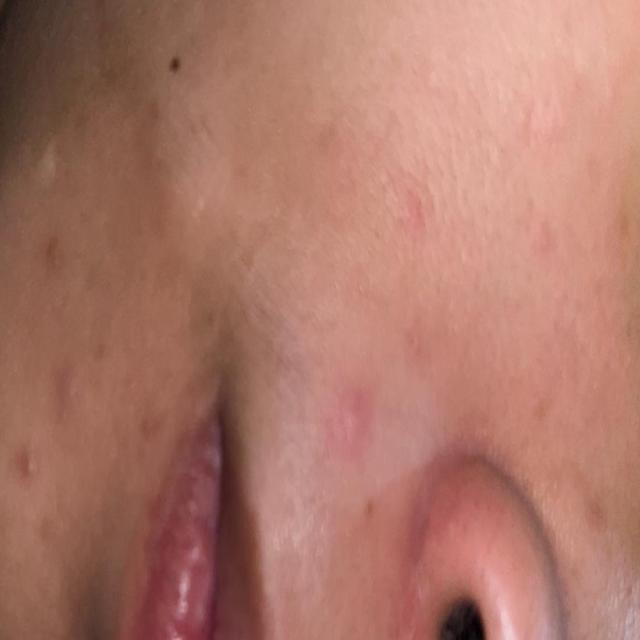papule: (327, 345, 398, 463), (43, 342, 100, 458)
pustule: (12, 438, 52, 498)
